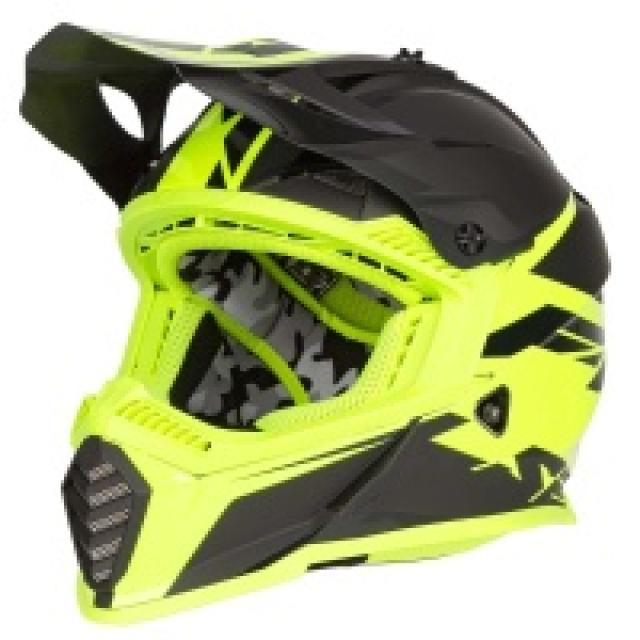Helmet: (22, 25, 608, 619)
